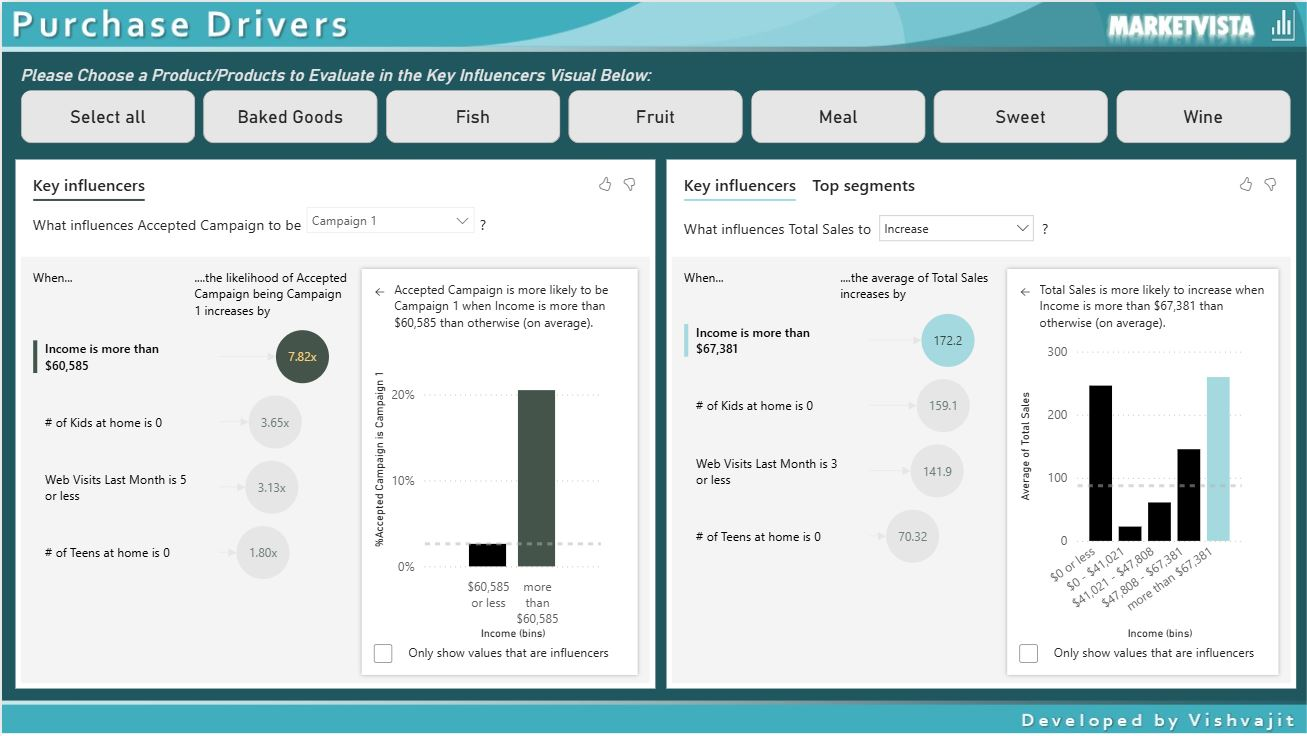

The page's visual inventory and layout, read from the dashboard file:
{"tool":"powerbi","page":{"name":"Purchase Drivers","canvas":[1280,720],"ordinal":3},"visuals":[{"type":"keyDriversVisual","fields":{"Target":["campaign.Campaign"],"ExplainBy":["marketing_data.Age","marketing_data. Income ","marketing_data.Country","marketing_data.Education","marketing_data.Kidhome","marketing_data.Teenhome","marketing_data.Web Visits Last Month"]},"box":[12.9,154.3,627.1,518.6],"z":0},{"type":"keyDriversVisual","fields":{"ExplainBy":["marketing_data.Age","marketing_data. Income ","marketing_data.Country","marketing_data.Education","marketing_data.Kidhome","marketing_data.Teenhome","marketing_data.Web Visits Last Month"],"Target":["products.Total Sales"]},"box":[651.4,154.3,617.1,518.6],"z":1000},{"type":"advancedSlicerVisual","title":"Please Choose a Product/Products to Evaluate in the Key Influencers Visual Below:","fields":{"Values":["products.Product"]},"box":[12.9,61.4,1255.7,81.4],"z":2000}]}

Visuals, with their boxes in screenshot pixels (x1, y1, x2, y2), scaled from the page's 1280x720 canvas onto the 1307x736 screenshot:
keyDriversVisual - campaign.Campaign x marketing_data.Age: x1=13 y1=158 x2=654 y2=688
keyDriversVisual - marketing_data.Age x marketing_data. Income : x1=665 y1=158 x2=1295 y2=688
"Please Choose a Product/Products to Evaluate in the Key Influencers Visual Below:" advancedSlicerVisual: x1=13 y1=63 x2=1295 y2=146
